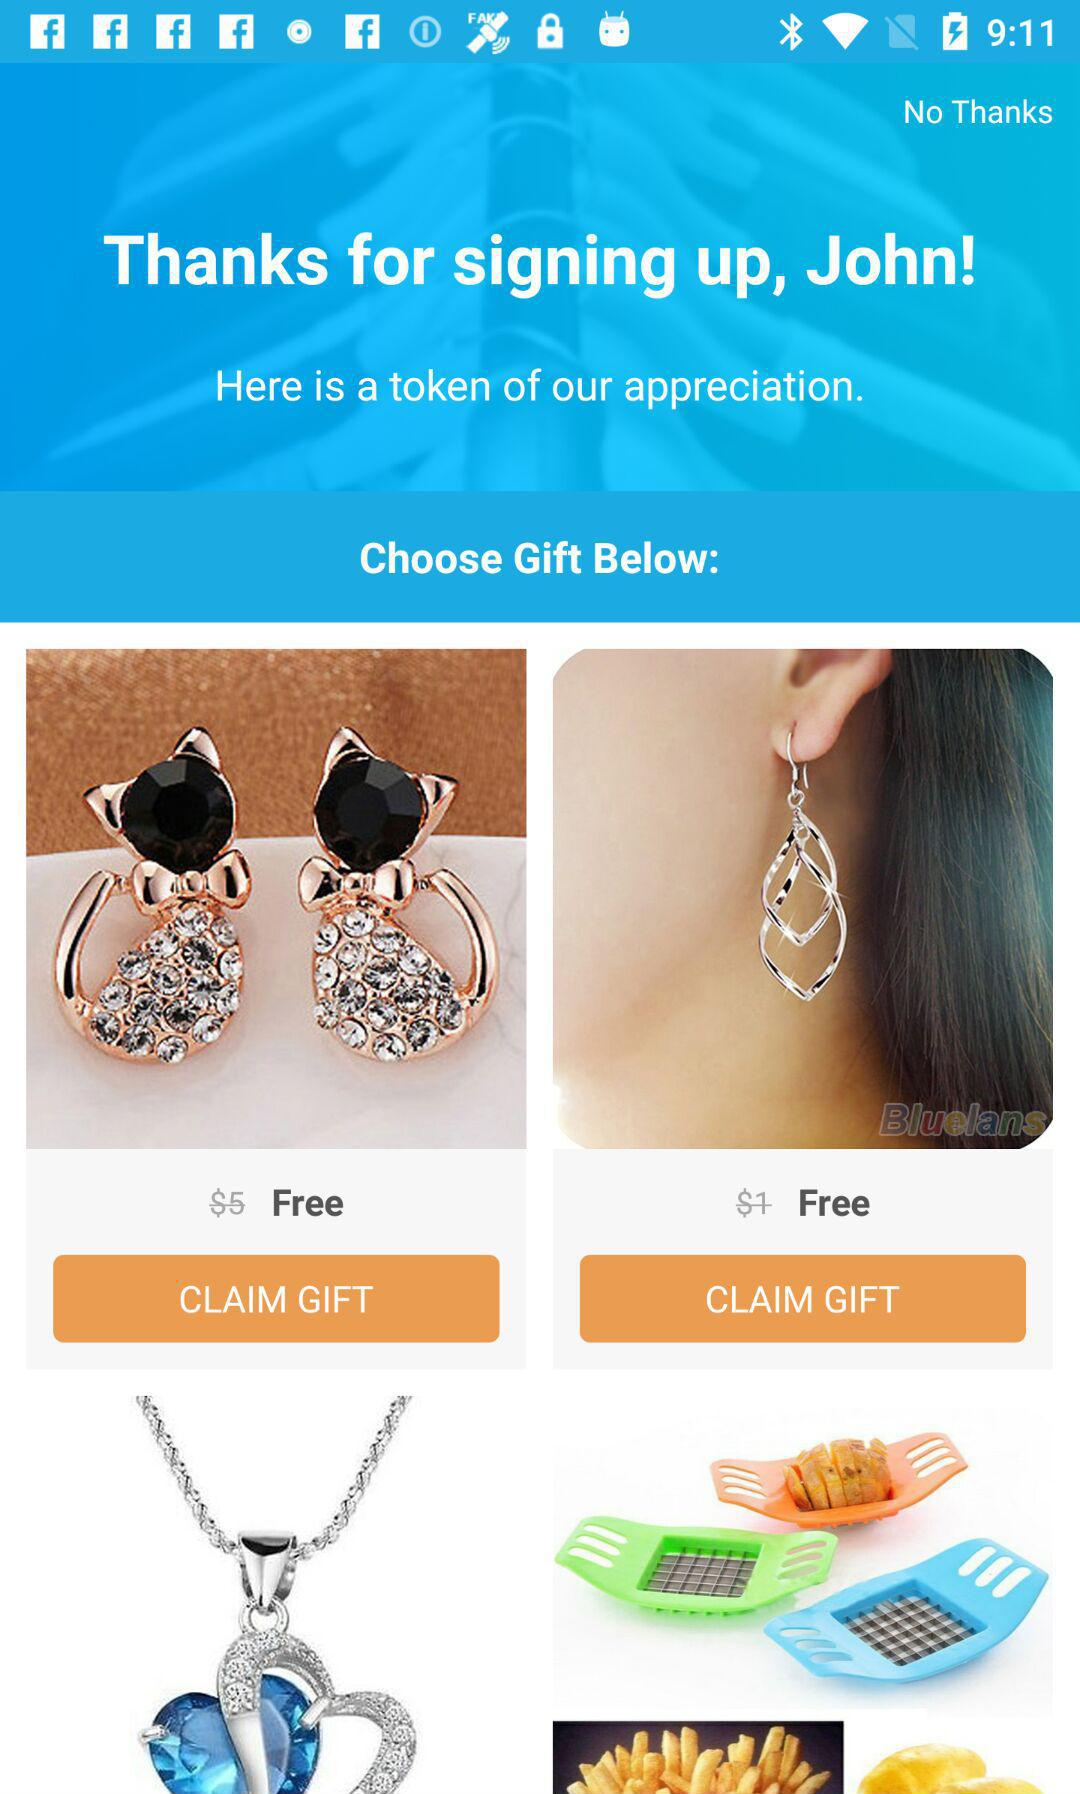Image: (553, 650, 1053, 1148), (28, 650, 527, 1148), (552, 1431, 1052, 1794), (136, 1395, 420, 1794)
Text: (102, 231, 975, 301), (217, 369, 863, 413), (360, 539, 717, 575), (904, 99, 1053, 126), (799, 1188, 870, 1219), (274, 1189, 345, 1219), (735, 1187, 773, 1219), (210, 1187, 247, 1219)
TextButton: (579, 1253, 1027, 1343), (53, 1255, 501, 1344)
UpperTaskBar: (1, 1, 1080, 64)
